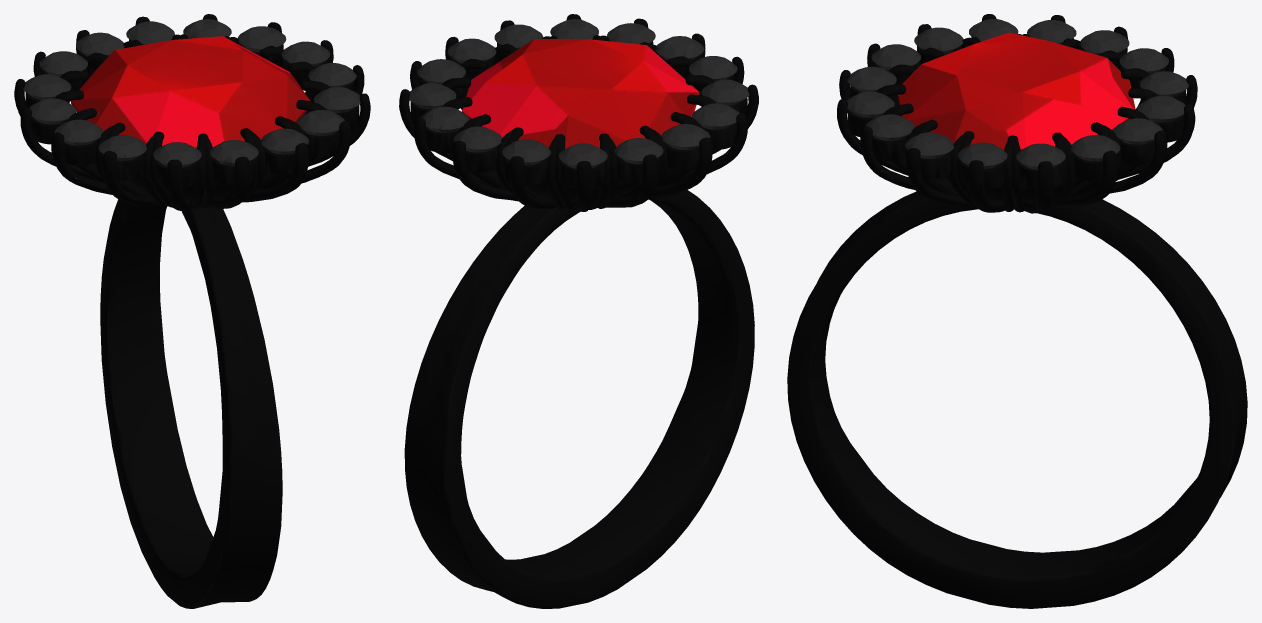
The model's file is ring.glb.
3 views of the same model, side by side, from view 1: azimuth 30°, elevation 25°; view 2: azimuth 150°, elevation 25°; view 3: azimuth 270°, elevation 25° (orthographic). The views are drawn at different scales.
Parts seen in each view (by area): view 1: ring_2, ruby_1, diamond_0; view 2: ring_2, ruby_1, diamond_0; view 3: ring_2, ruby_1, diamond_0.
Part boxes in pixels (box(x1,y1,x2,y2)): ring_2: box(14, 14, 370, 608); ruby_1: box(71, 36, 310, 147); diamond_0: box(23, 19, 360, 167); ring_2: box(399, 14, 758, 608); ruby_1: box(462, 39, 699, 148); diamond_0: box(408, 19, 749, 168); ring_2: box(787, 14, 1247, 608); ruby_1: box(898, 32, 1135, 149); diamond_0: box(847, 19, 1188, 169).
Bounding box in the file's own units: 0.1825 × 0.296 × 0.2329.
Materials: 3 (1 with a texture image).
